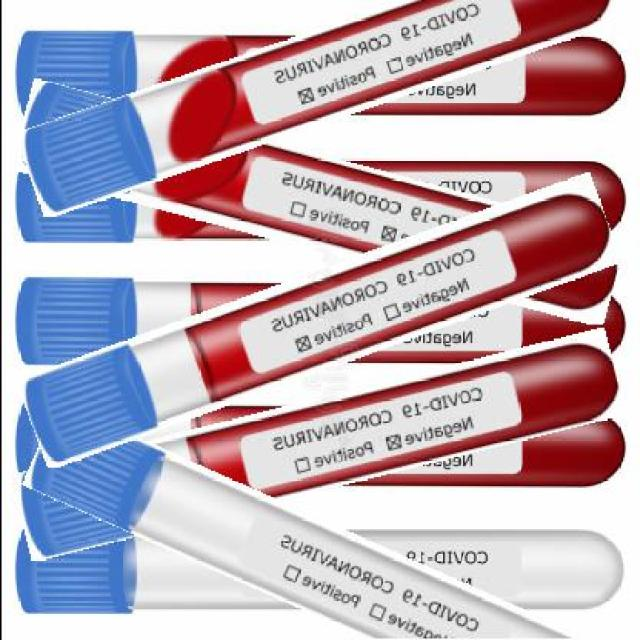Experimental-tube: (16, 224, 622, 419), (15, 462, 620, 638), (10, 117, 624, 288), (12, 0, 623, 171), (10, 363, 622, 526)
